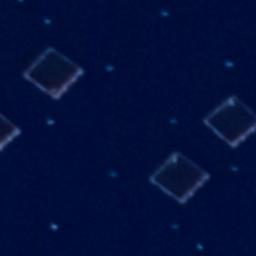square_solid: (144, 148, 213, 208), (18, 45, 87, 104), (200, 91, 256, 152), (1, 109, 25, 156)
